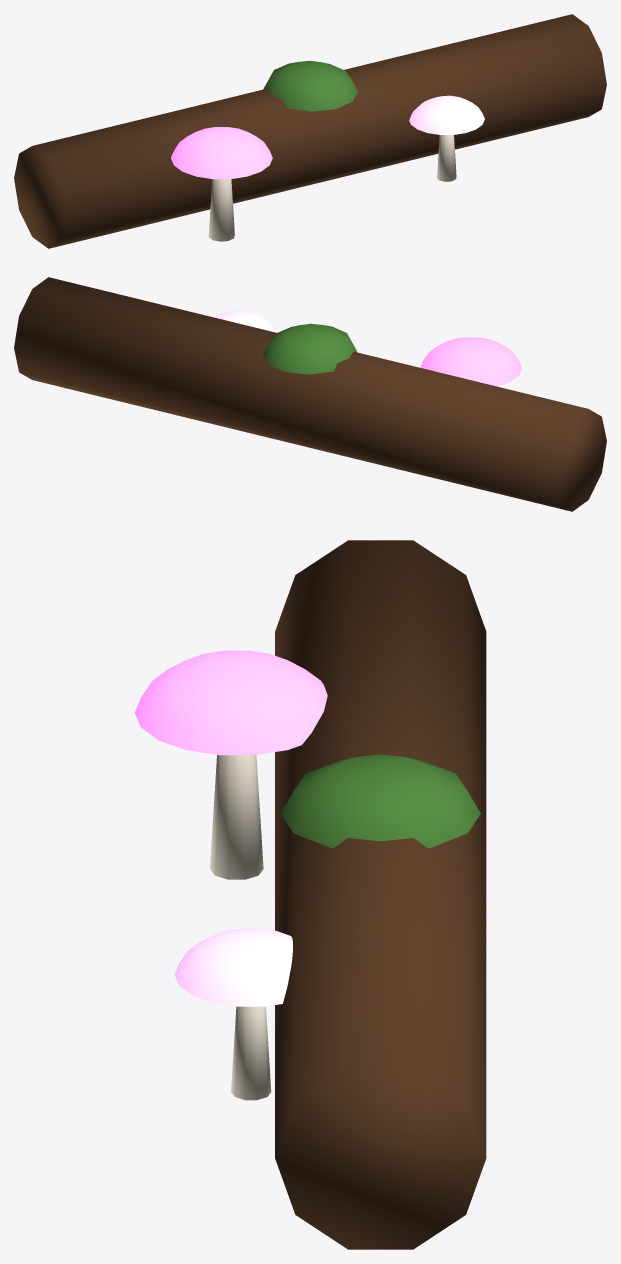
The model's file is les-padly-kmen.glb.
3 renders of one model, top to bottom at view 1: azimuth 30°, elevation 25°; view 2: azimuth 150°, elevation 25°; view 3: azimuth 270°, elevation 25°, orthographic. The views are drawn at different scales.
Parts seen in each view (by area): view 1: padly-kmen; view 2: padly-kmen; view 3: padly-kmen.
Boxes of the visible parts, bbox=[...] form: padly-kmen: bbox=[14, 14, 606, 248]; padly-kmen: bbox=[14, 277, 606, 511]; padly-kmen: bbox=[134, 540, 486, 1249].
Bounding box in the file's own units: 2.6 × 0.5115 × 0.7327.
